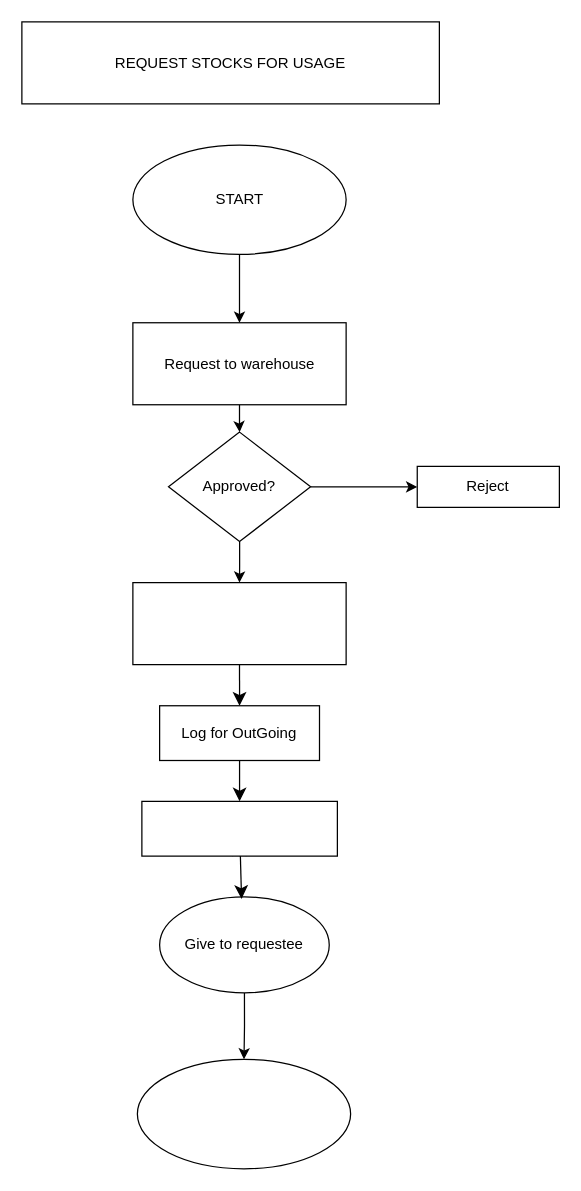
The diagram is 581 pixels wide and 1191 high, and some of its shapes have lost their labels. Each missing label, with the centre of its shape:
END: the point at 243,1113
Processing RM for outgoing: the point at 239,623
Subtract on hand stock: the point at 239,828
